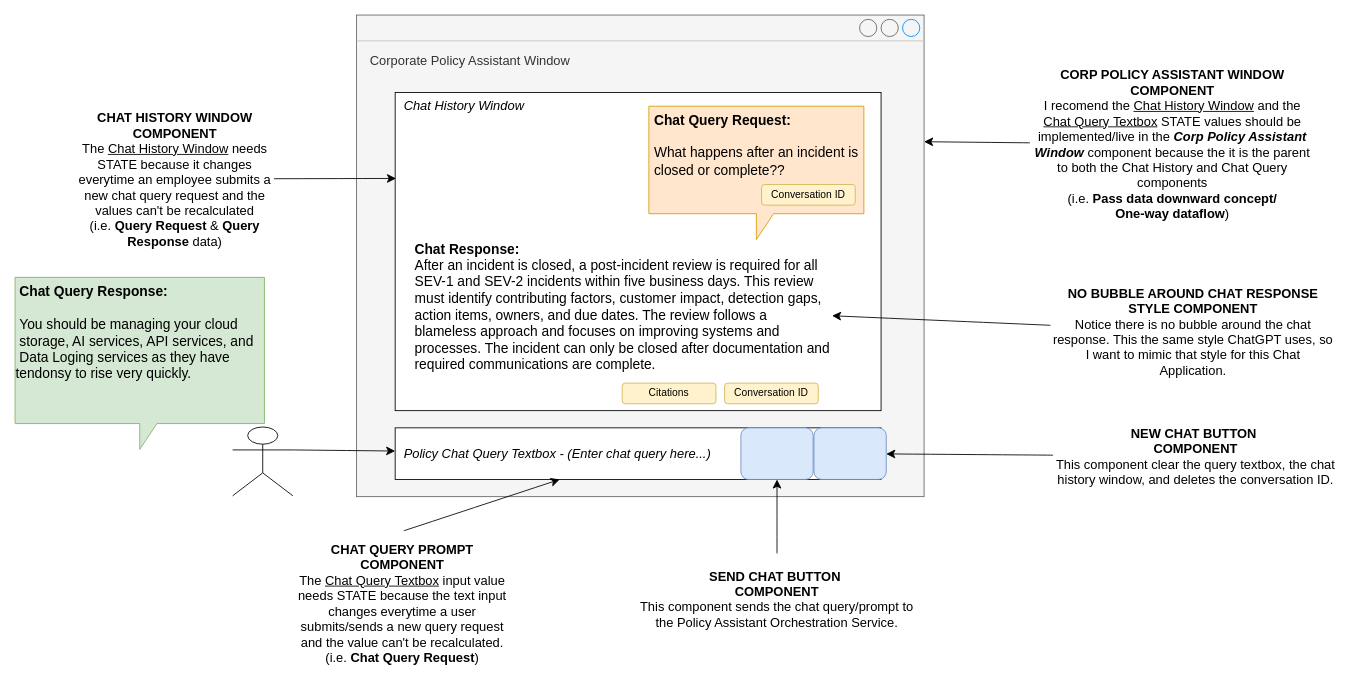
The diagram is 1354 pixels wide and 683 high, and some of its shapes have lost their labels. The centre of each missing label's shape, as x and y in pixels:
"Corporate Employee" goes at (262,461).
"New Chat" goes at (849,453).
"Send Chat" goes at (776,453).
